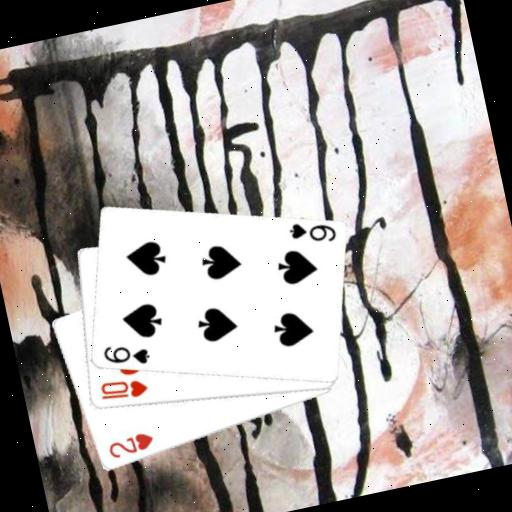10H: (95, 370, 150, 406)
2H: (102, 427, 157, 462)
6S: (98, 335, 153, 374), (284, 212, 339, 251)
